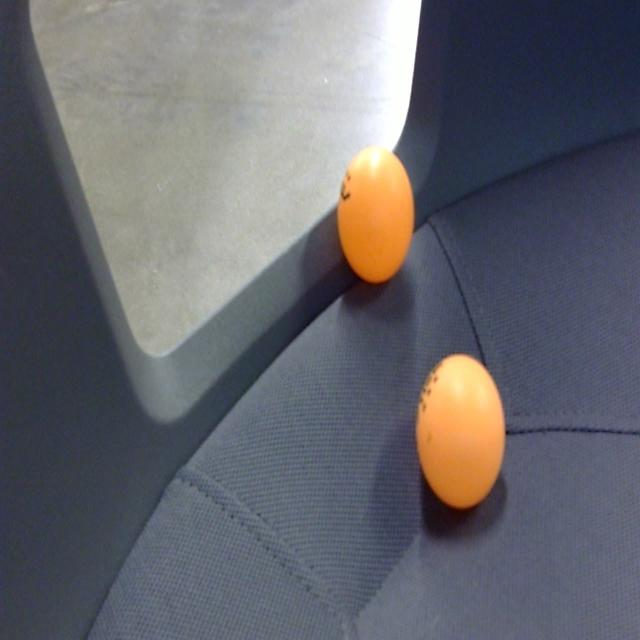ball: (416, 352, 506, 514), (336, 143, 416, 290)
